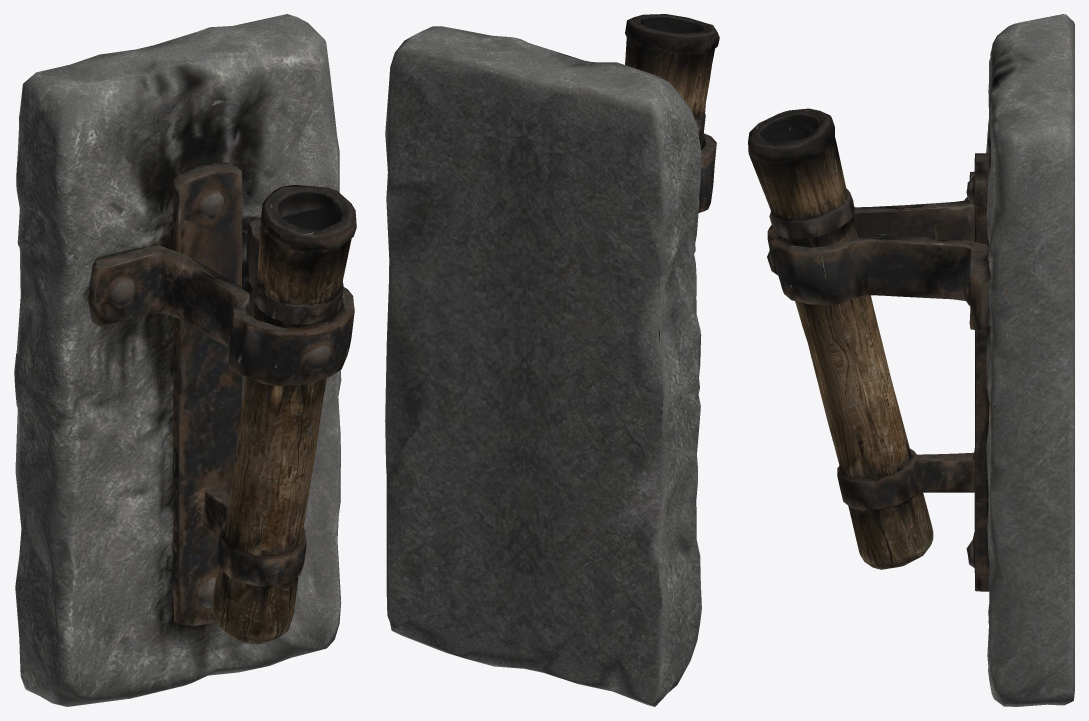
The model's file is babylon_wall_torch.glb.
3 views of the same model, side by side, from view 1: azimuth 30°, elevation 25°; view 2: azimuth 150°, elevation 25°; view 3: azimuth 270°, elevation 25° (orthographic). The views are drawn at different scales.
Parts seen in each view (by area): view 1: Mesh_0; view 2: Mesh_0; view 3: Mesh_0.
Part boxes in pixels (left/top/right/bottom): Mesh_0: left=14, top=14, right=356, bottom=706; Mesh_0: left=385, top=14, right=719, bottom=706; Mesh_0: left=748, top=14, right=1074, bottom=706.
Size of the model in its own units: 0.9334 by 1.9 by 0.9689.
1 material, 1 textured.
